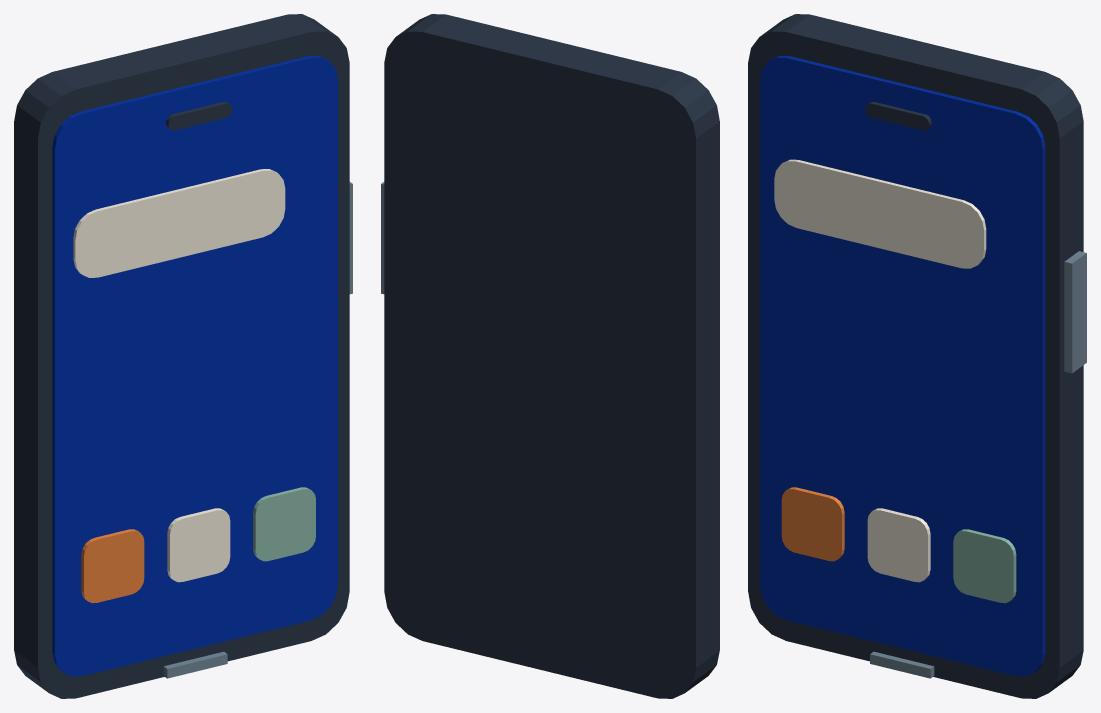
File: phone.glb
3 renders of one model, left to right at view 1: azimuth 30°, elevation 25°; view 2: azimuth 150°, elevation 25°; view 3: azimuth 330°, elevation 25°, orthographic.
Visible parts, largest first — view 1: screen, case, widget, app 1, app 0, app 2, earpiece, port; view 2: case; view 3: screen, case, widget, app 0, app 1, app 2, side switch, earpiece, port.
Boxes of the visible parts, x1,y1,x2,y2 form: screen: [52, 55, 337, 676]; case: [14, 14, 349, 698]; widget: [73, 169, 285, 277]; app 1: [167, 508, 230, 582]; app 0: [81, 529, 144, 603]; app 2: [253, 487, 315, 561]; earpiece: [166, 101, 232, 130]; port: [163, 651, 227, 678]; case: [384, 14, 719, 698]; screen: [759, 55, 1045, 676]; case: [748, 14, 1083, 698]; widget: [774, 159, 986, 268]; app 0: [781, 487, 844, 561]; app 1: [867, 508, 930, 582]; app 2: [953, 529, 1016, 603]; side switch: [1064, 251, 1086, 373]; earpiece: [865, 101, 931, 130]; port: [870, 651, 934, 678].
Size of the model in its own units: 1 by 1.83 by 0.166.
